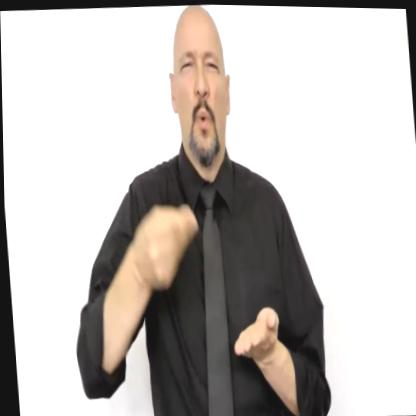Expensive: (132, 189, 287, 380)
